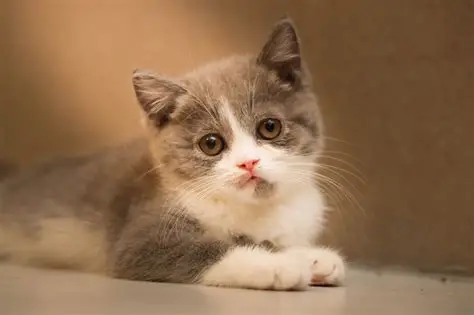cat: (125, 17, 355, 211)
